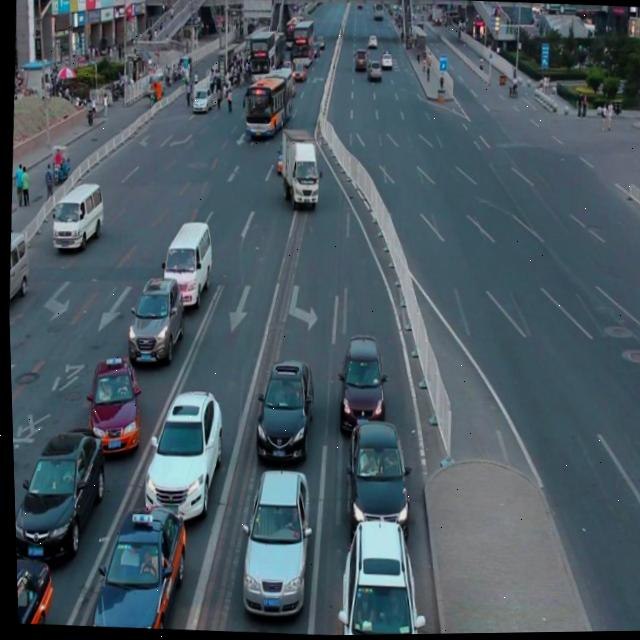bus: (277, 127, 321, 207)
car: (82, 496, 187, 631), (10, 421, 107, 567), (136, 382, 225, 524), (232, 463, 311, 618), (332, 512, 420, 636), (340, 413, 411, 536), (248, 354, 315, 463), (83, 352, 144, 456), (121, 271, 187, 366), (333, 333, 387, 437), (13, 554, 52, 625)
truck: (158, 217, 214, 308), (48, 178, 105, 251), (5, 228, 31, 312)
